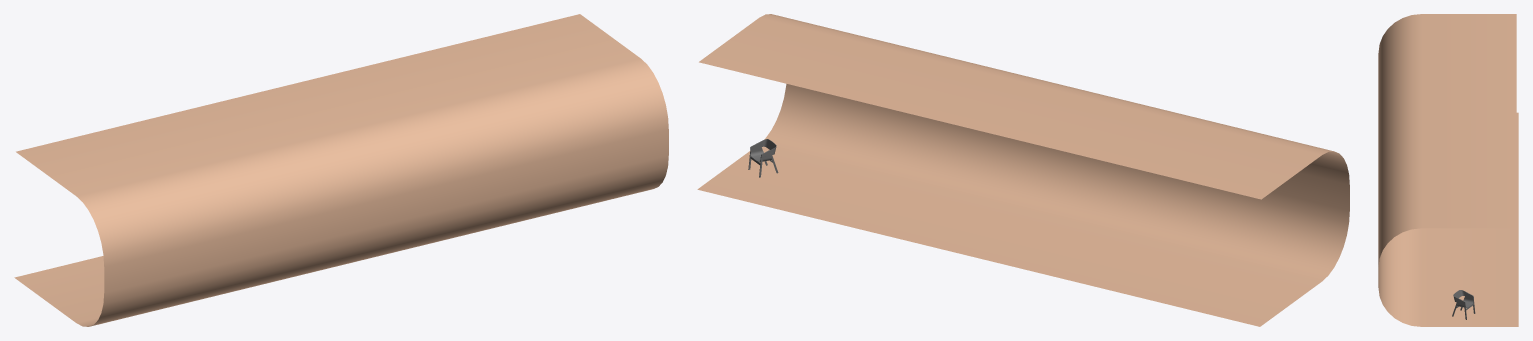
The model's file is berta chair.obj.
3 renders of one model, left to right at view 1: azimuth 30°, elevation 25°; view 2: azimuth 150°, elevation 25°; view 3: azimuth 270°, elevation 25°, orthographic. The views are drawn at different scales.
Visible parts, largest first — view 1: Line001; view 2: Line001; view 3: Line001, Object001, Object002.
Boxes of the visible parts, x1=… form: Line001: x1=14, y1=14, x2=668, y2=326; Line001: x1=697, y1=14, x2=1349, y2=326; Line001: x1=1378, y1=14, x2=1518, y2=326; Object001: x1=1457, y1=292, x2=1473, y2=307; Object002: x1=1453, y1=290, x2=1473, y2=304.
Size of the model in its own units: 2576 by 553 by 712.
